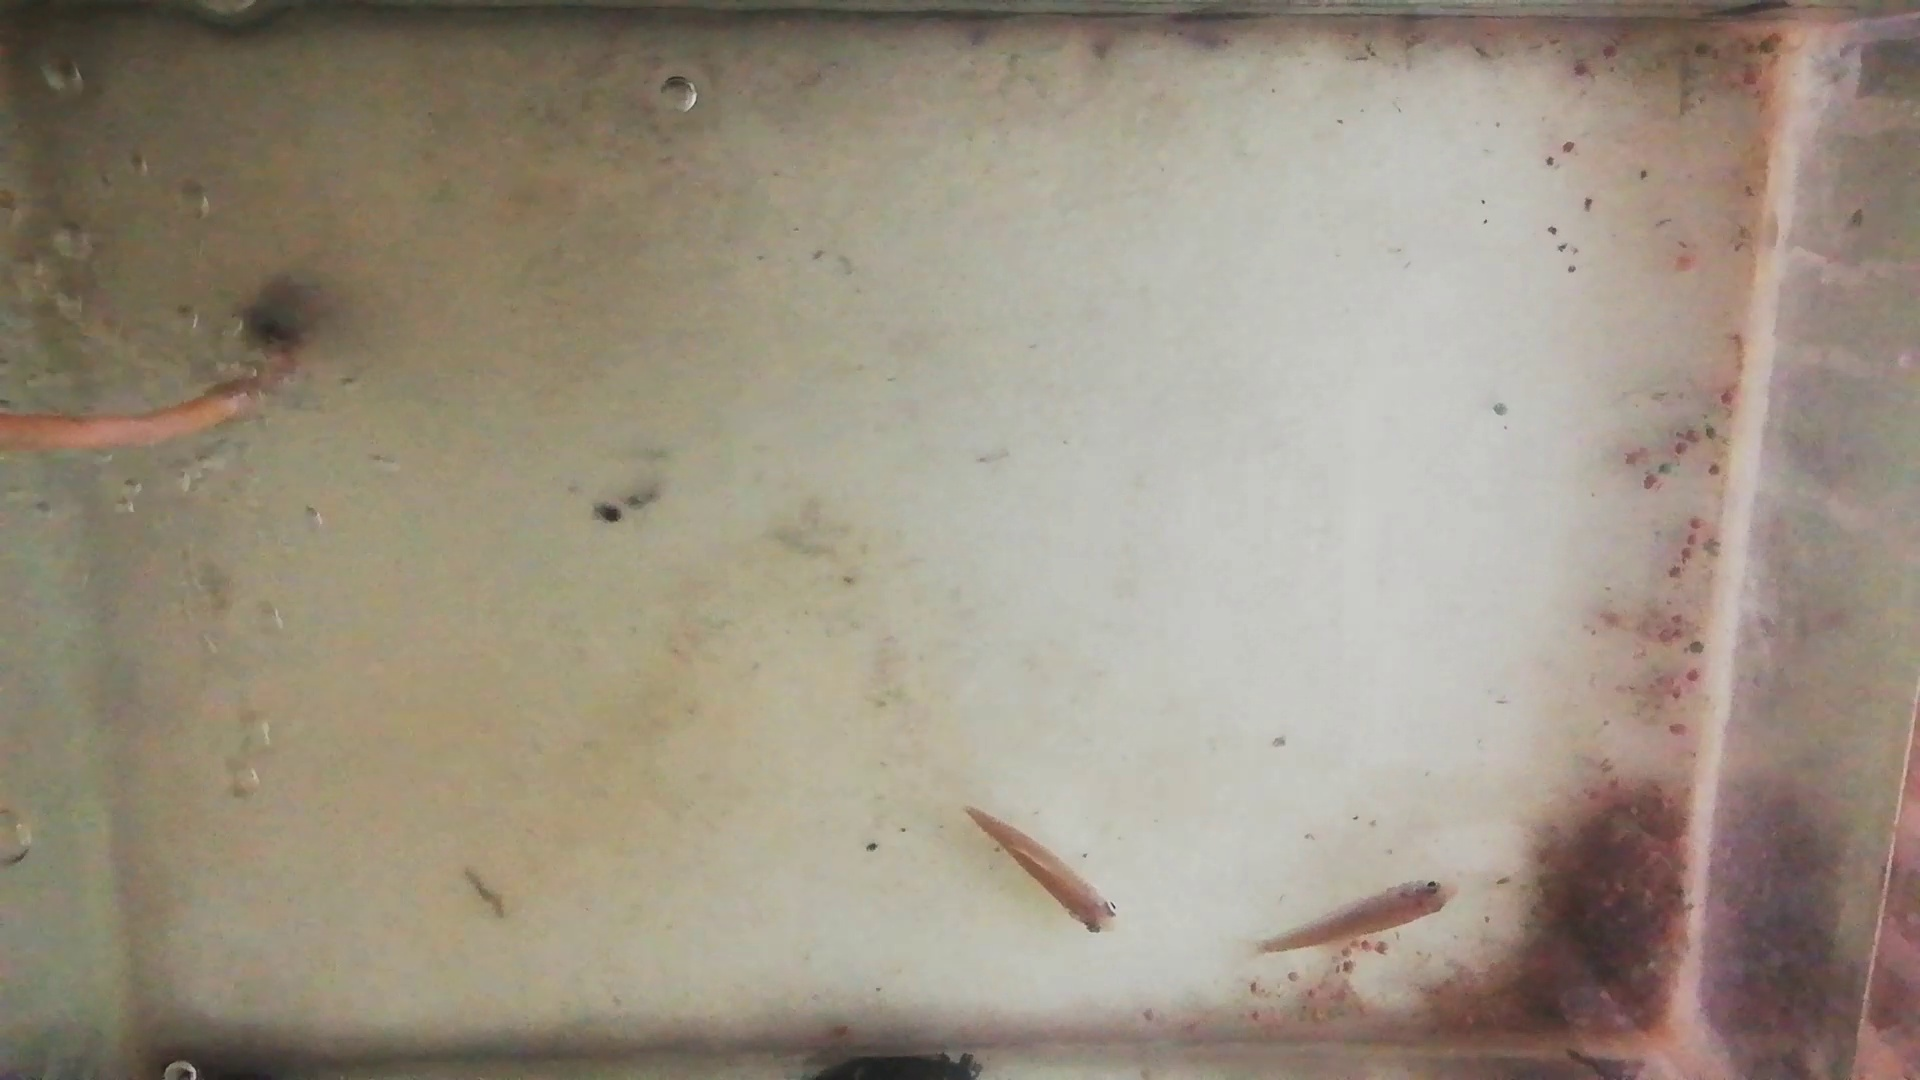fish: (960, 804, 1120, 938), (1261, 882, 1456, 951)
